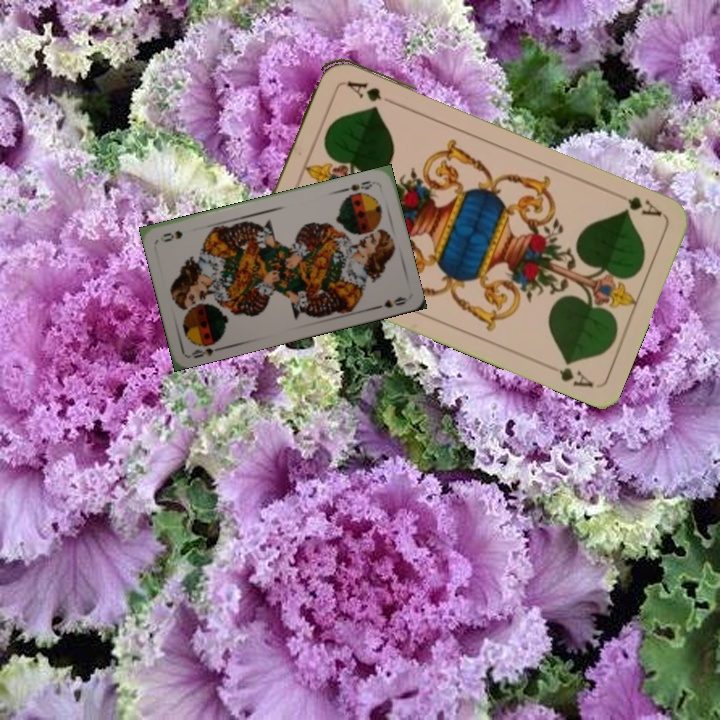GA: (623, 192, 665, 219)
SO: (187, 335, 226, 361), (339, 176, 379, 194)
